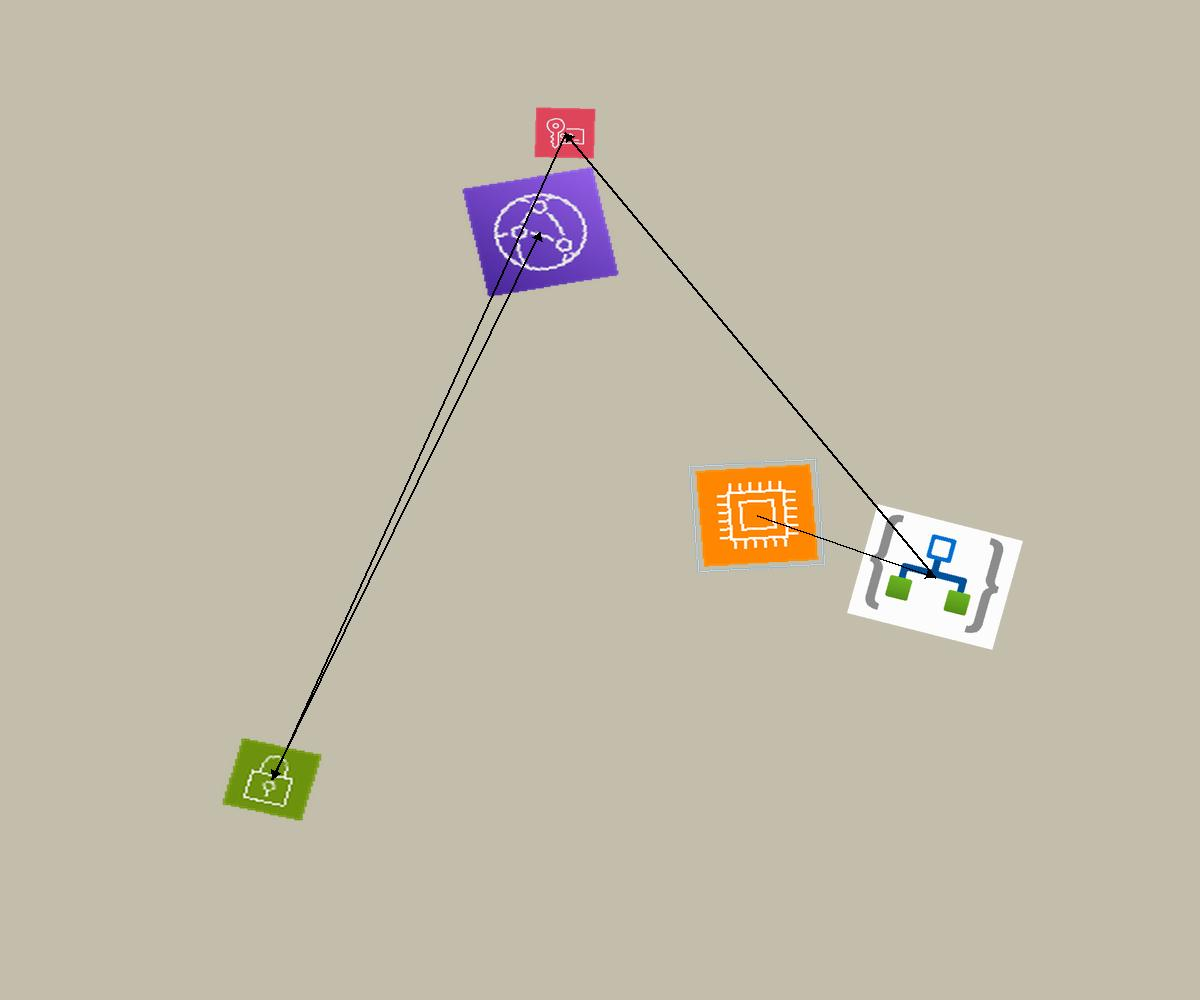AWS-Category_Compute: (687, 457, 827, 574)
AWS-CloudFront: (461, 166, 620, 298)
AWS-Key-Management-Service: (534, 107, 596, 159)
AWS-Public-subnet: (221, 737, 323, 822)
Azure_integration-204-Logic-Apps: (847, 504, 1023, 650)
